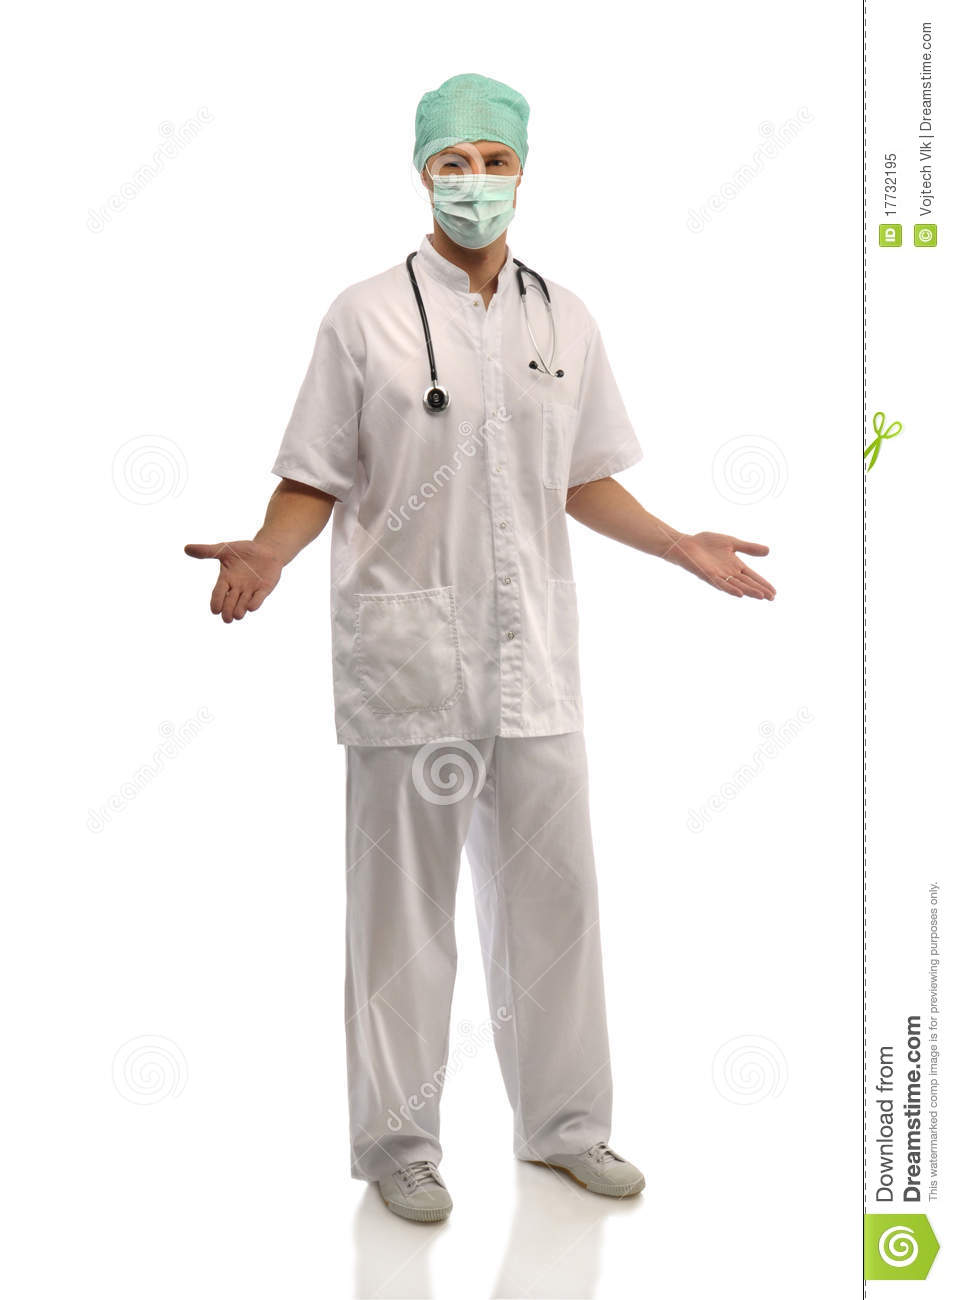mask: (430, 174, 517, 253)
